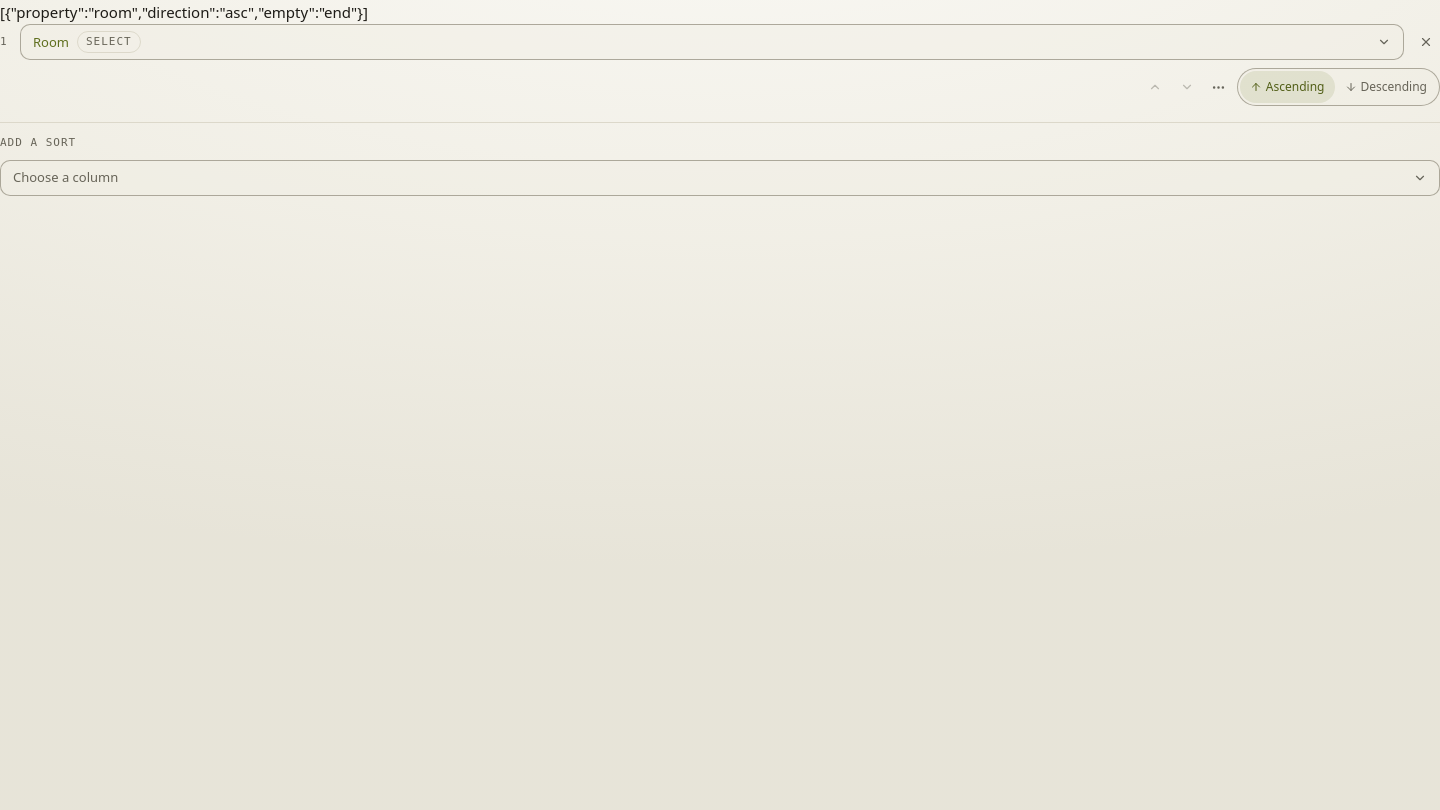
Test: SortBar › offers only columns that are not already rules
Check: the button with aria-label "Sort column: Room" is shown, box [20,24,1404,60]
Click the button with aria-label "Add a sort column" at (66, 177), box [0,160,1439,196]
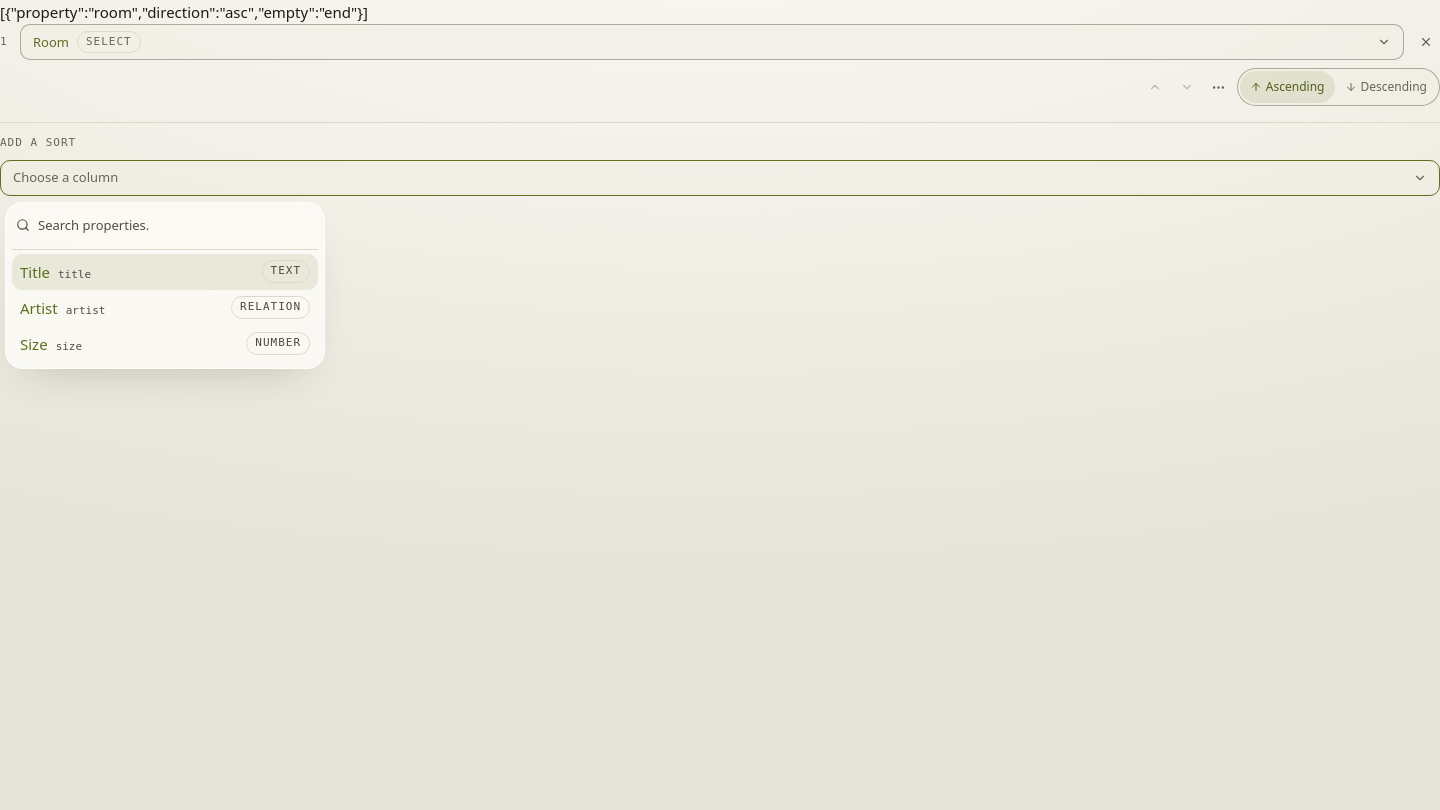
Check: the option "Size size Number" is shown, box [12,326,318,362]
